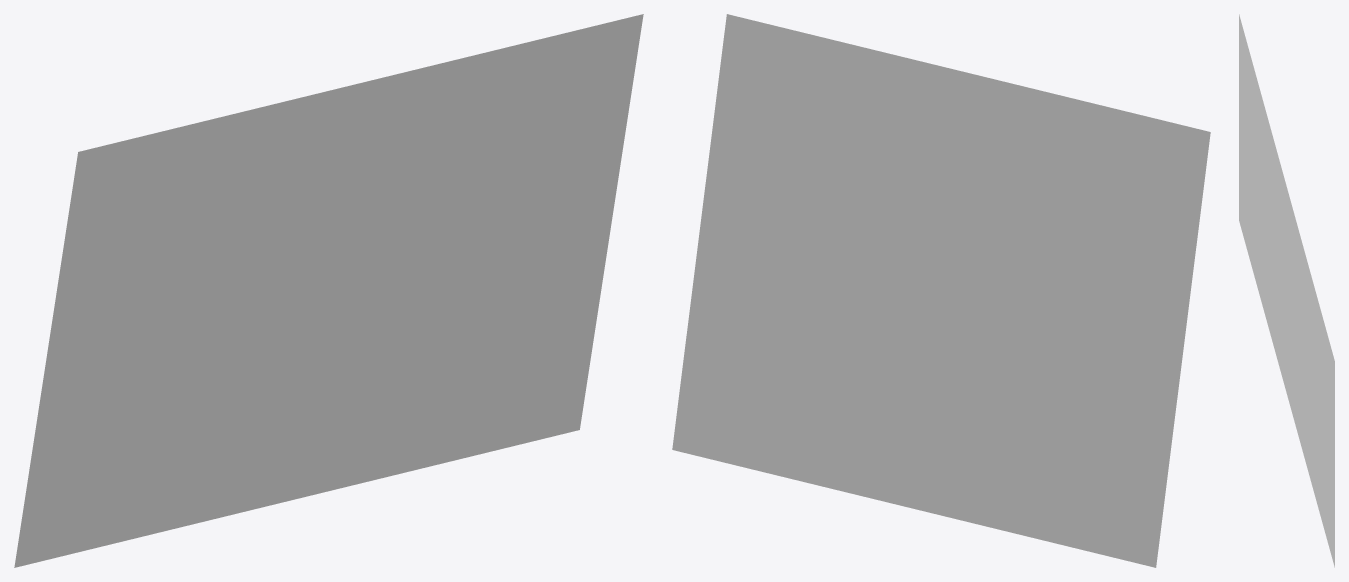
The model's file is primary_107.glb.
3 views of the same model, side by side, from view 1: azimuth 30°, elevation 25°; view 2: azimuth 150°, elevation 25°; view 3: azimuth 270°, elevation 25° (orthographic). The views are drawn at different scales.
Parts seen in each view (by area): view 1: Object; view 2: Object; view 3: Object.
Part boxes in pixels (x1=…): Object: x1=14, y1=14, x2=643, y2=567; Object: x1=672, y1=14, x2=1210, y2=567; Object: x1=1239, y1=14, x2=1334, y2=567.
Bounding box in the file's own units: 2.08 × 1.63 × 0.407.
1 material, 1 textured.
